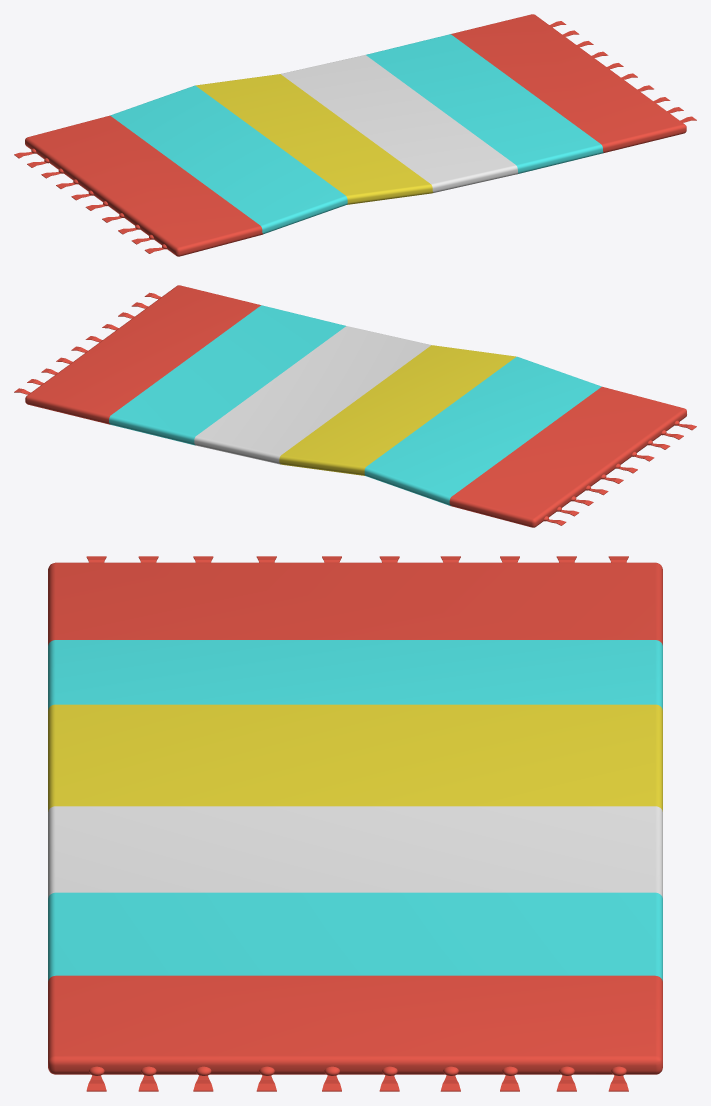
Rendered from Rug-3.fbx.
3 renders of one model, top to bottom at view 1: azimuth 30°, elevation 25°; view 2: azimuth 150°, elevation 25°; view 3: azimuth 270°, elevation 25°, orthographic. The views are drawn at different scales.
Visible parts, largest first — view 1: Plane, Sphere.005; view 2: Plane, Sphere.005; view 3: Plane, Sphere.005.
Boxes of the visible parts, x1,y1,x2,y2 form: Plane: [25, 14, 686, 256]; Sphere.005: [14, 21, 696, 253]; Plane: [25, 285, 686, 527]; Sphere.005: [14, 292, 696, 525]; Plane: [48, 562, 662, 1074]; Sphere.005: [86, 556, 628, 1091].
Bounding box in the file's own units: 16.19 × 0.5696 × 7.88.
